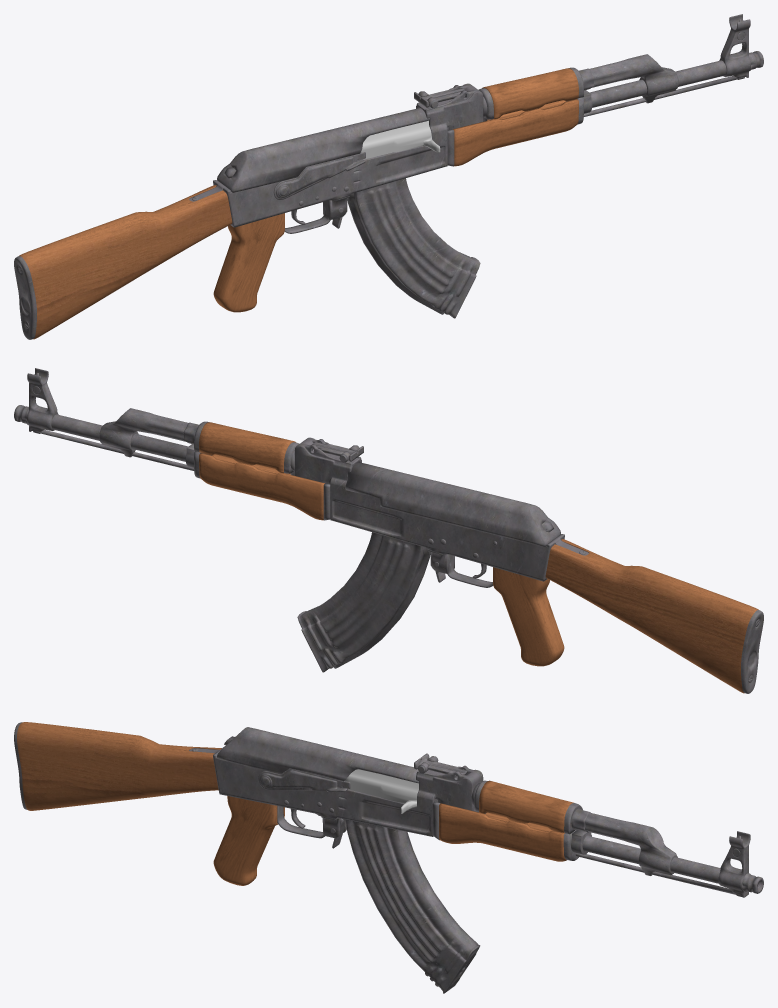
The picture shows the model from 3 angles, top to bottom: view 1: azimuth 30°, elevation 25°; view 2: azimuth 150°, elevation 25°; view 3: azimuth 330°, elevation 25°; orthographic projection.
Visible parts, largest first — view 1: receiver; view 2: receiver; view 3: receiver.
Boxes of the visible parts, box(x1,y1,x2,y2) form: receiver: box(14, 14, 763, 339); receiver: box(14, 368, 763, 693); receiver: box(14, 722, 763, 993).
Bounding box in the file's own units: 488 × 142 × 31.09.
